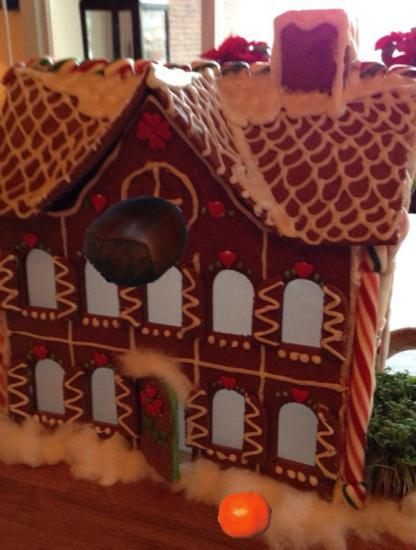Chestnut: (87, 188, 190, 291)
Clementine: (218, 489, 272, 543)
